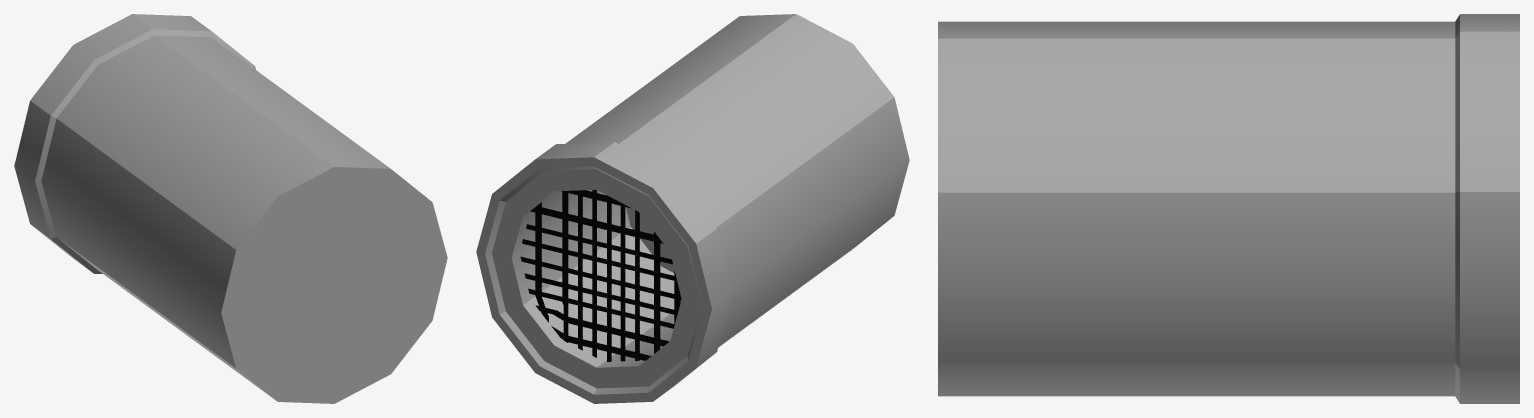
Rendered from SewerPipe.fbx.
3 views of the same model, side by side, from view 1: azimuth 30°, elevation 25°; view 2: azimuth 150°, elevation 25°; view 3: azimuth 270°, elevation 25° (orthographic). The views are drawn at different scales.
Parts seen in each view (by area): view 1: Pipe; view 2: Pipe, SewerGrate; view 3: Pipe.
Boxes of the visible parts, x1,y1,x2,y2 form: Pipe: (14,14,447,403); Pipe: (476,14,909,403); SewerGrate: (520,190,681,361); Pipe: (938,14,1519,403).
Size of the model in its own units: 2.08 by 2.08 by 3.09.
